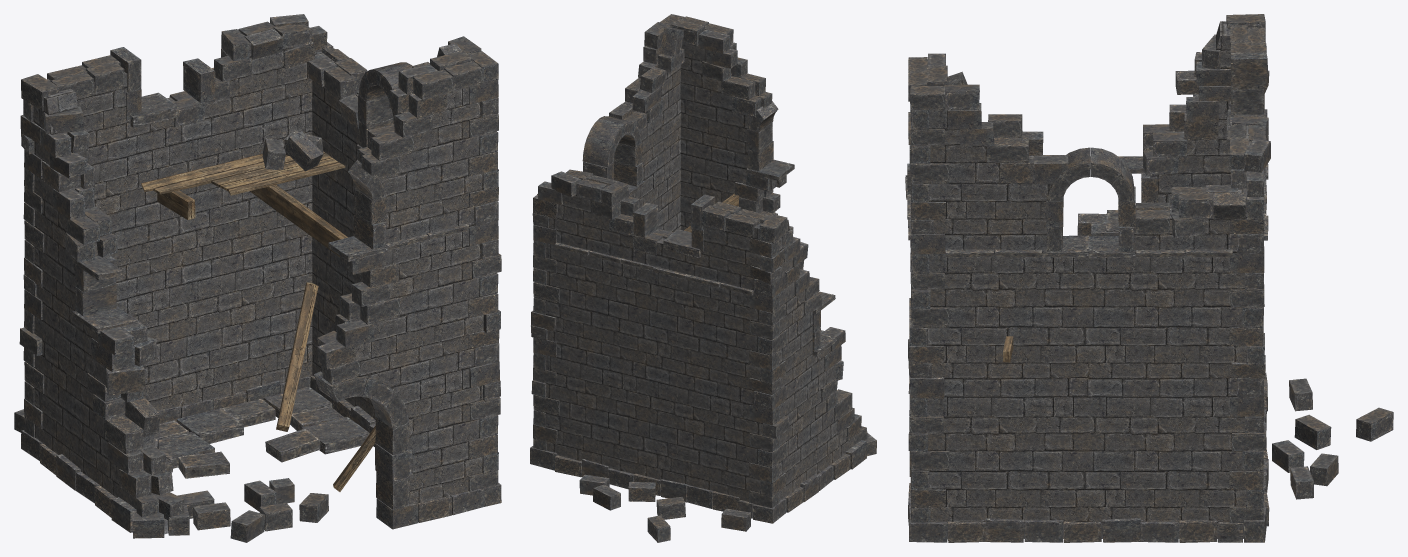
File: Tower_02.fbx
3 renders of one model, left to right at view 1: azimuth 30°, elevation 25°; view 2: azimuth 150°, elevation 25°; view 3: azimuth 270°, elevation 25°, orthographic. The views are drawn at different scales.
Parts seen in each view (by area): view 1: StoneWall, StoneBricks, Wood, WoodPlanks; view 2: StoneWall, StoneBricks; view 3: StoneWall, StoneBricks.
Boxes of the visible parts, bbox=[...] form: StoneWall: bbox=[33, 33, 495, 534]; StoneBricks: bbox=[14, 14, 501, 542]; Wood: bbox=[157, 185, 375, 491]; WoodPlanks: bbox=[141, 151, 345, 195]; StoneWall: bbox=[535, 43, 854, 501]; StoneBricks: bbox=[530, 14, 876, 542]; StoneWall: bbox=[913, 21, 1262, 538]; StoneBricks: bbox=[905, 14, 1393, 542].
Size of what is drawn, in the model's own units: 454 by 569 by 552.
